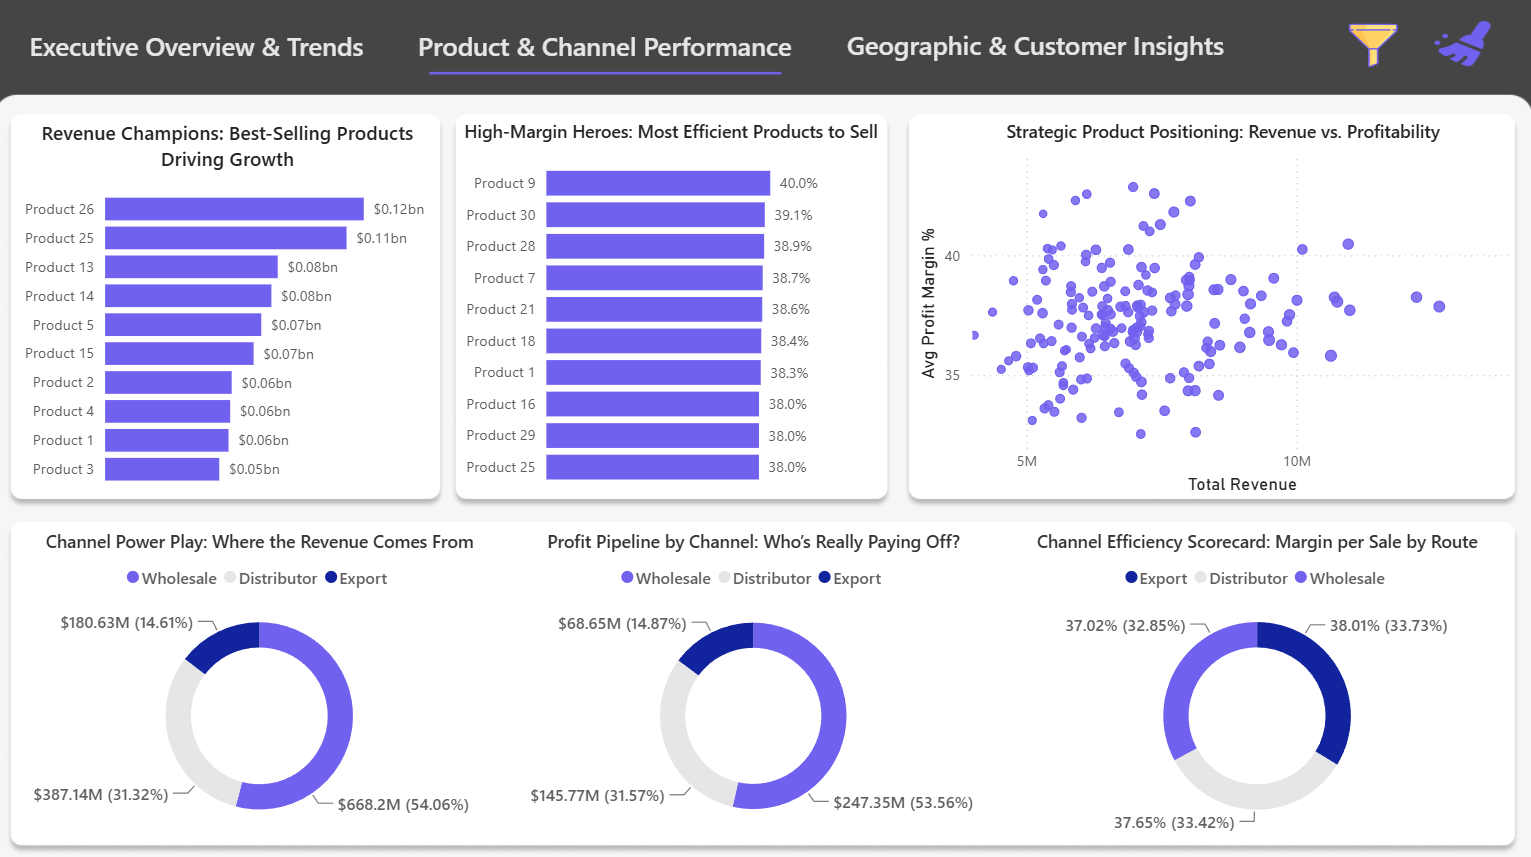

What the dashboard file says about the page in this screenshot:
{"tool":"powerbi","page":{"name":"Product & Channel Performance","canvas":[1280,720],"ordinal":1},"visuals":[{"type":"barChart","title":"Revenue Champions: Best-Selling Products Driving Growth","fields":{"Category":["Sales_data.product_name"],"Y":["Measures_.Total Revenue"]},"box":[16,103,357,316],"z":0},{"type":"scatterChart","title":"Strategic Product Positioning: Revenue vs. Profitability","fields":{"Size":["Sum(Customer Summary.Order Count)"],"X":["Customer Summary.Total Revenue"],"Y":["Customer Summary.Avg Profit Margin %"]},"box":[764,103,516,317],"z":1000},{"type":"barChart","title":"High-Margin Heroes: Most Efficient Products to Sell","fields":{"Category":["Sales_data.product_name"],"Y":["Measures_.Profit Margin %"]},"box":[382,103,361,316],"z":2000},{"type":"donutChart","title":"Channel Power Play: Where the Revenue Comes From","fields":{"Category":["Sales_data.channel"],"Y":["Measures_.Total Revenue"]},"box":[16.7,443.3,408.3,261.7],"z":3000},{"type":"donutChart","title":"Profit Pipeline by Channel: Who’s Really Paying Off?","fields":{"Category":["Sales_data.channel"],"Y":["Measures_.Total Profit"]},"box":[436.7,443.3,390,261.7],"z":4000},{"type":"donutChart","title":"Channel Efficiency Scorecard: Margin per Sale by Route","fields":{"Category":["Sales_data.channel"],"Y":["Measures_.Profit Margin %"]},"box":[843.3,443.3,415,261.7],"z":5000},{"type":"actionButton","box":[337.2,14.1,342.3,55.1],"z":6000},{"type":"actionButton","box":[9,14.1,317.9,55.1],"z":7000},{"type":"actionButton","box":[695,13.8,341.2,55],"z":8000},{"type":"actionButton","box":[1188,14,70,55],"z":9000},{"type":"actionButton","box":[1120,21,53,42],"z":10000}]}

Visuals, with their boxes in screenshot pixels (x1, y1, x2, y2), scaled from the page's 1280x720 canvas onto the 1531x857 screenshot:
"Revenue Champions: Best-Selling Products Driving Growth" barChart: x1=19 y1=123 x2=446 y2=499
"Strategic Product Positioning: Revenue vs. Profitability" scatterChart: x1=914 y1=123 x2=1530 y2=500
"High-Margin Heroes: Most Efficient Products to Sell" barChart: x1=457 y1=123 x2=889 y2=499
"Channel Power Play: Where the Revenue Comes From" donutChart: x1=20 y1=528 x2=508 y2=839
"Profit Pipeline by Channel: Who’s Really Paying Off?" donutChart: x1=522 y1=528 x2=989 y2=839
"Channel Efficiency Scorecard: Margin per Sale by Route" donutChart: x1=1009 y1=528 x2=1505 y2=839
actionButton: x1=403 y1=17 x2=813 y2=82
actionButton: x1=11 y1=17 x2=391 y2=82
actionButton: x1=831 y1=16 x2=1239 y2=82
actionButton: x1=1421 y1=17 x2=1505 y2=82
actionButton: x1=1340 y1=25 x2=1403 y2=75
